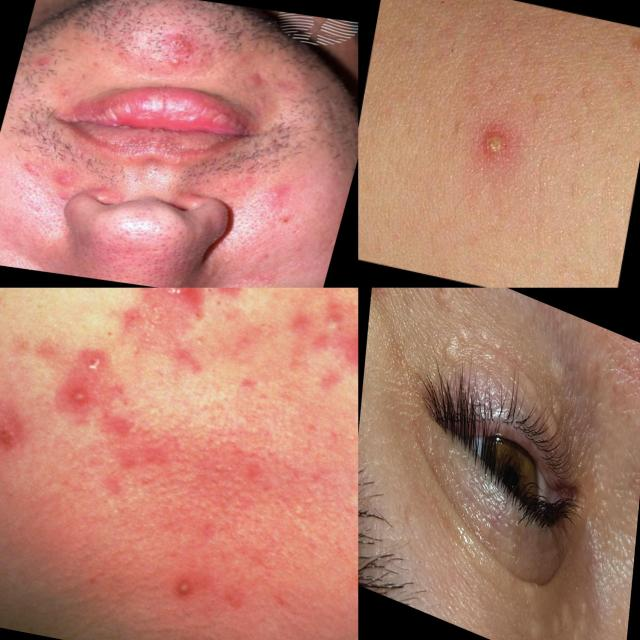acne_scars: (0, 395, 25, 471)
papule: (258, 176, 306, 208), (197, 288, 266, 308), (47, 167, 82, 194), (157, 52, 196, 75), (163, 32, 197, 56), (237, 65, 270, 89), (17, 155, 47, 177), (23, 58, 48, 71)
pustule: (462, 98, 543, 190), (154, 562, 197, 610), (309, 302, 356, 339), (59, 378, 93, 417)
sebo-crystan-conglo: (142, 288, 195, 298)
syringoma: (427, 293, 524, 404), (520, 377, 576, 441), (530, 334, 576, 389), (548, 592, 578, 640), (571, 595, 595, 640), (527, 609, 549, 640)
